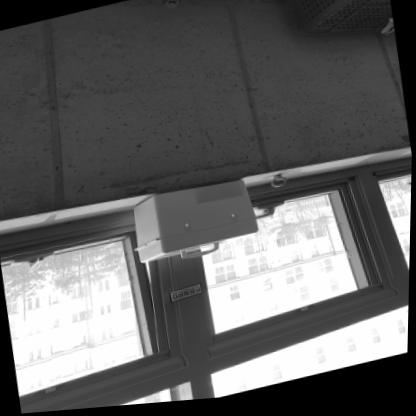DDL: (126, 175, 262, 274)
